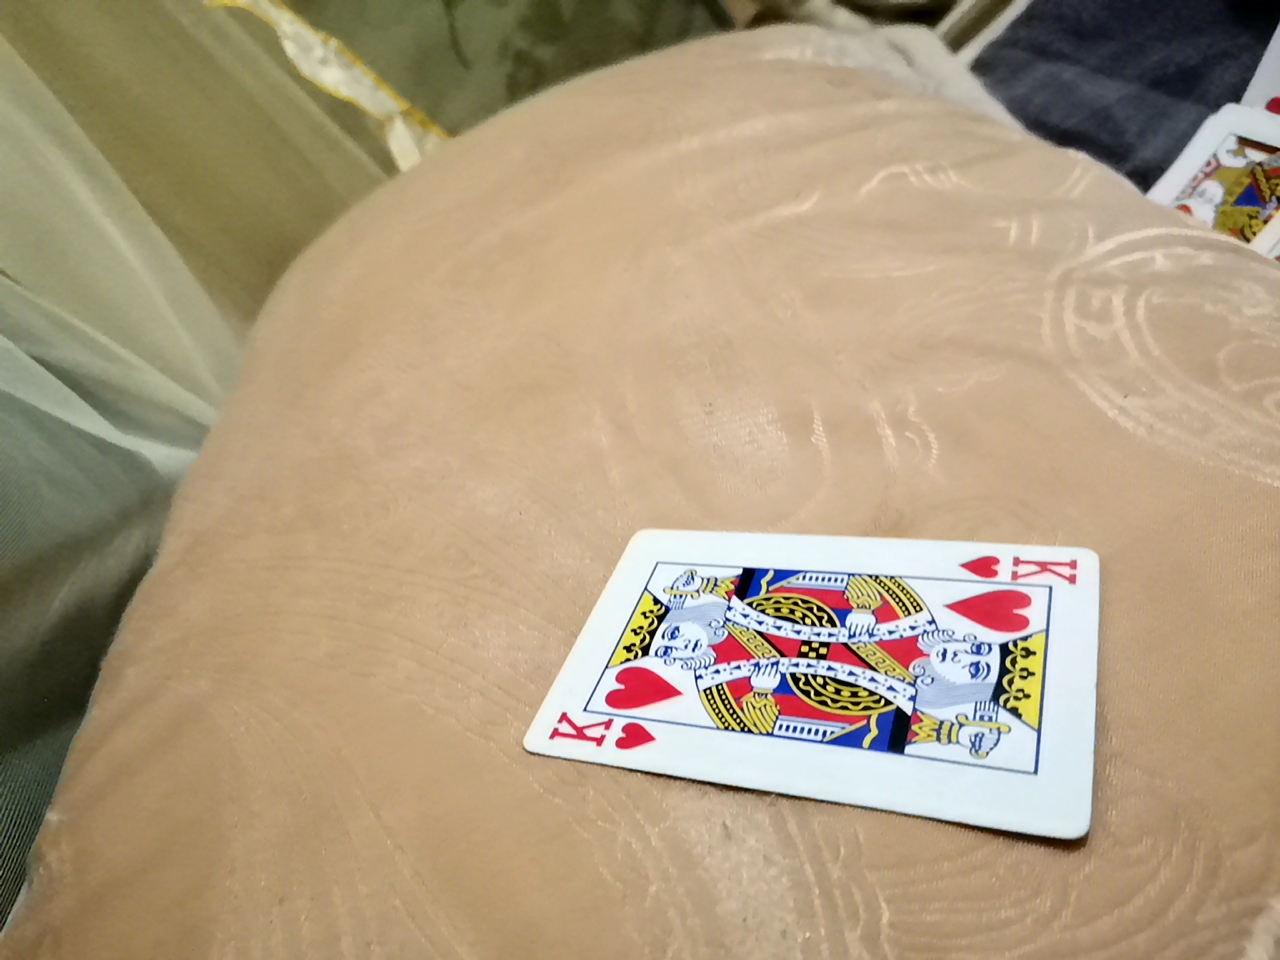hx k: (543, 504, 1114, 807)
